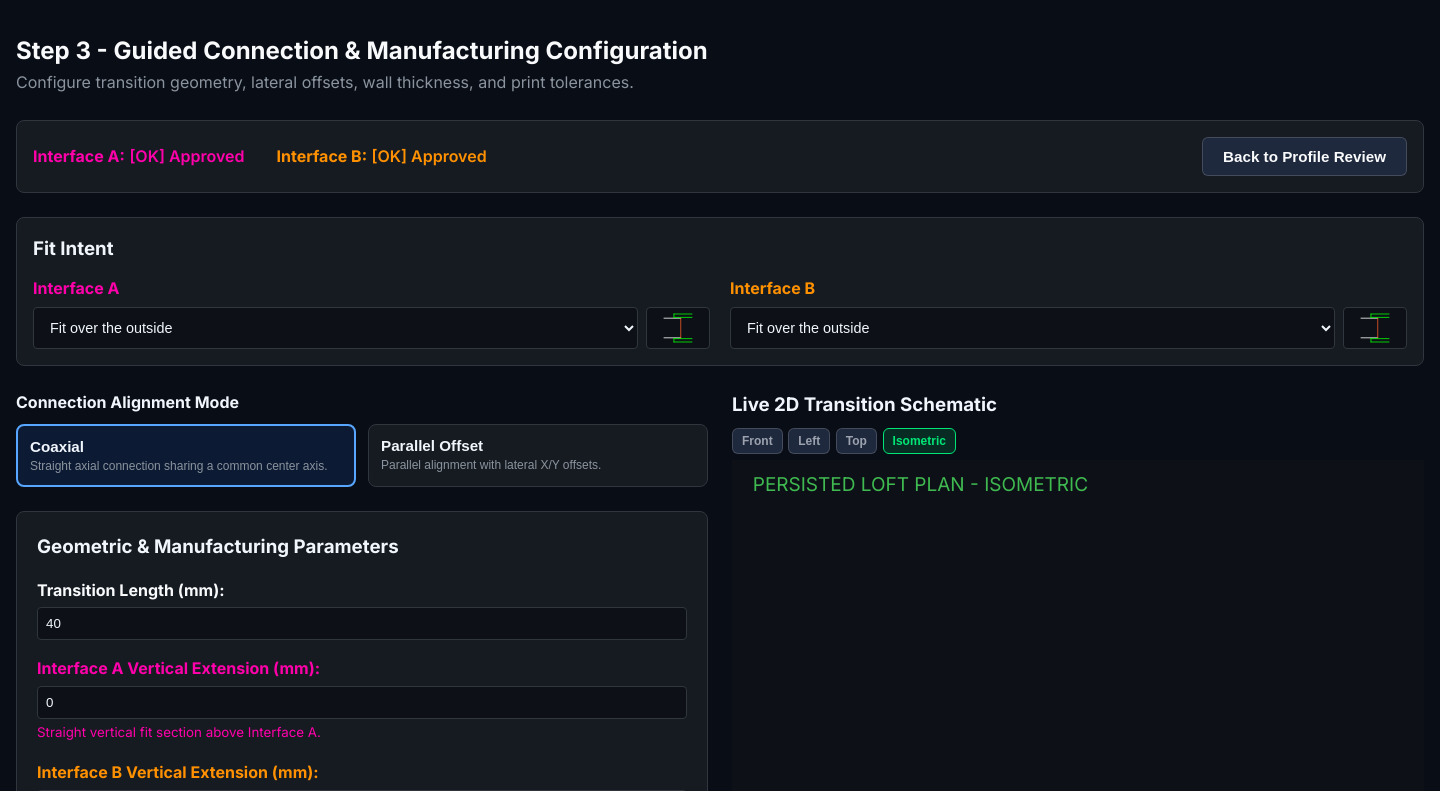
Test case: ConnectionConfigPage Component (Stage S4C) › switches mode and updates active fields for Offset mode
This screenshot has width=1440, height=791.
Expected: the field labelled "X Offset" is not shown
Note: Select Offset Mode
Click the radio button labelled "Parallel Offset Parallel alignment with lateral X/Y offsets." at point(538, 455), box 368,424 -> 708,487
(page scrolled)
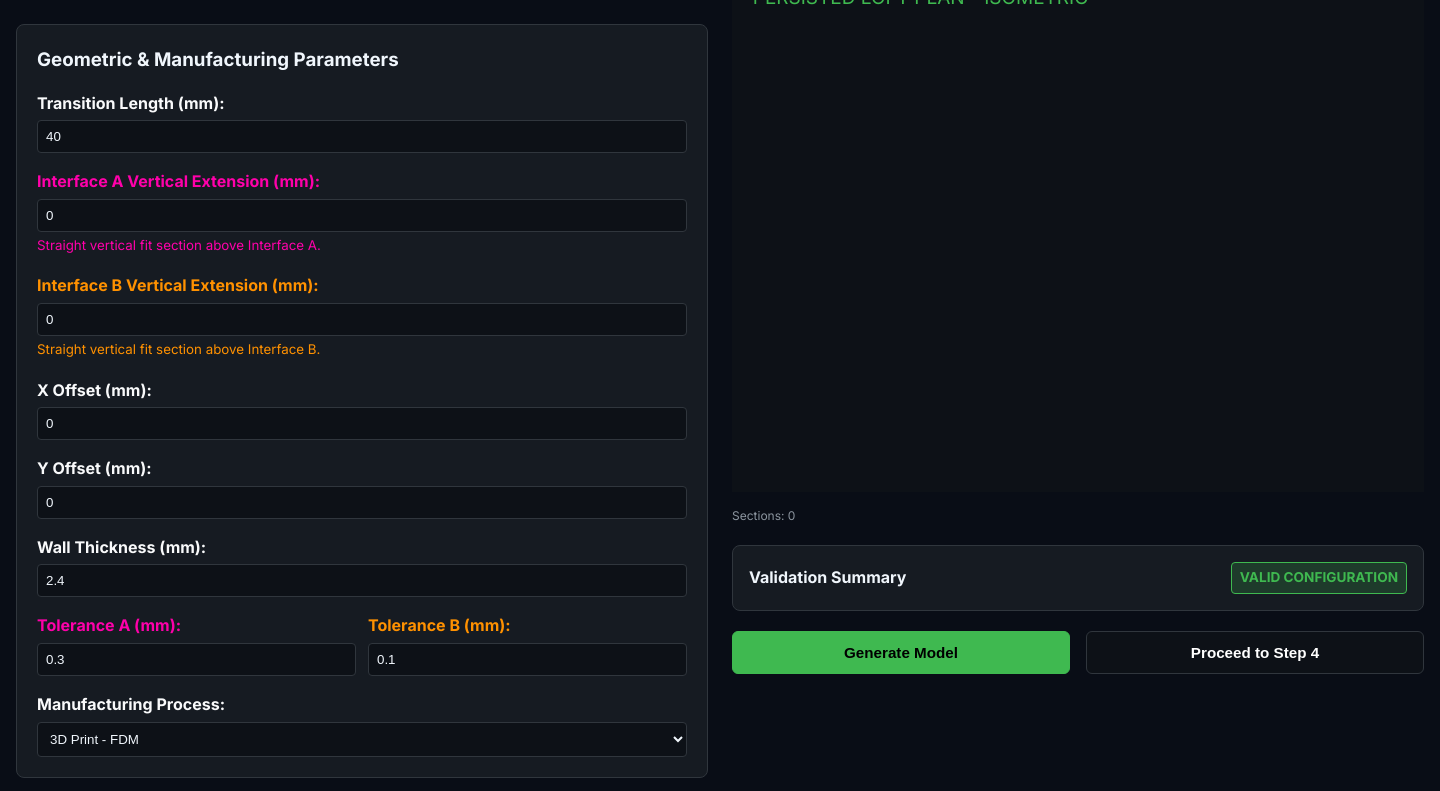
Expected: the number field labelled "X Offset (mm):" is shown, 37,407 -> 687,440
Expected: the number field labelled "Y Offset (mm):" is shown, 37,486 -> 687,519
